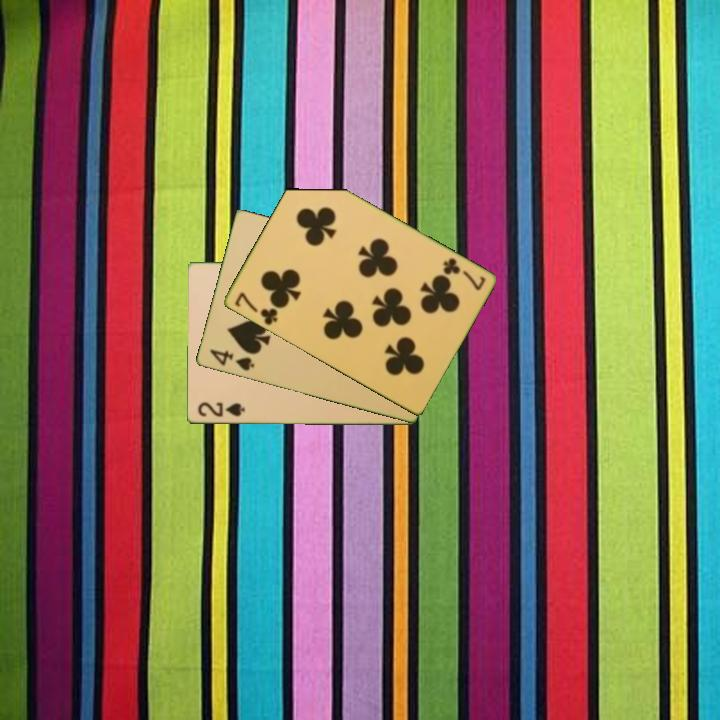2s: (194, 399, 247, 420)
4s: (206, 346, 257, 374)
7c: (231, 289, 280, 328), (439, 254, 488, 293)
